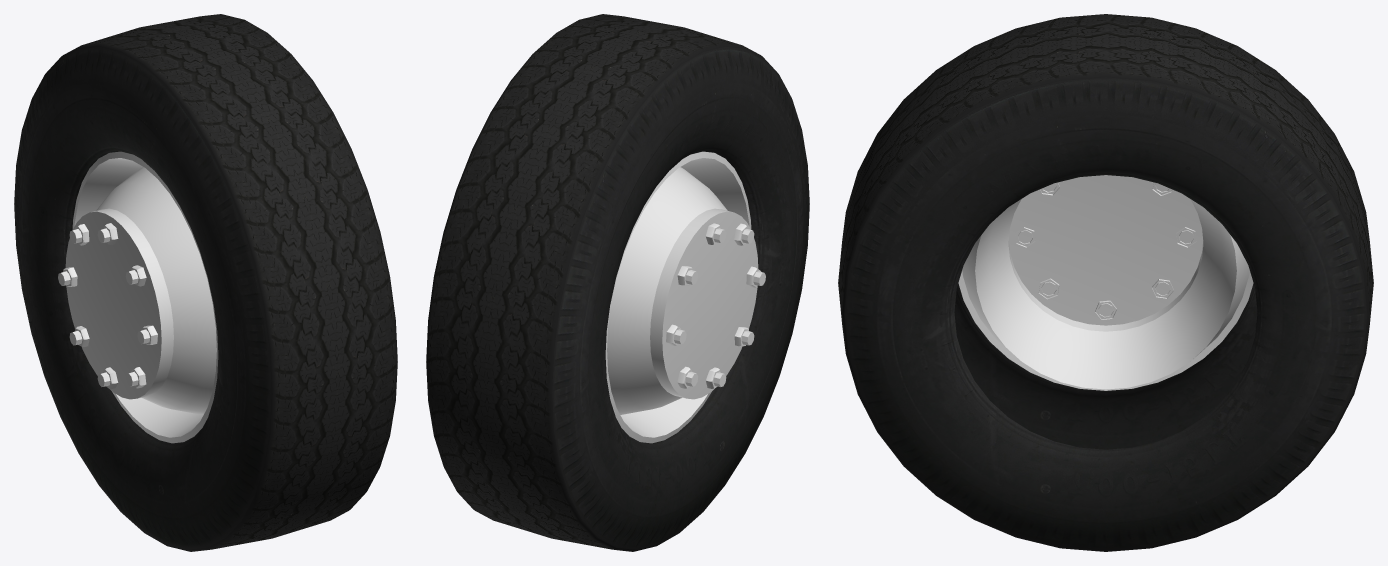
The model's file is truck_tire.glb.
3 renders of one model, left to right at view 1: azimuth 30°, elevation 25°; view 2: azimuth 150°, elevation 25°; view 3: azimuth 270°, elevation 25°, orthographic.
Parts seen in each view (by area): view 1: Object021_Material #276_0, Object021_Material #338_0, Object021_Material #291_0; view 2: Object021_Material #276_0, Object021_Material #338_0, Object021_Material #291_0; view 3: Object021_Material #276_0, Object021_Material #338_0, Object021_Material #291_0.
Boxes of the visible parts, bbox=[...] form: Object021_Material #276_0: bbox=[14, 14, 397, 551]; Object021_Material #338_0: bbox=[65, 151, 218, 443]; Object021_Material #291_0: bbox=[58, 223, 157, 389]; Object021_Material #276_0: bbox=[426, 14, 809, 551]; Object021_Material #338_0: bbox=[605, 151, 758, 443]; Object021_Material #291_0: bbox=[666, 223, 765, 388]; Object021_Material #276_0: bbox=[838, 14, 1373, 551]; Object021_Material #338_0: bbox=[958, 175, 1253, 390]; Object021_Material #291_0: bbox=[1015, 182, 1196, 319].
Size of the model in its own units: 0.4371 by 1.11 by 1.11.
Materials: 3 (1 with a texture image).
